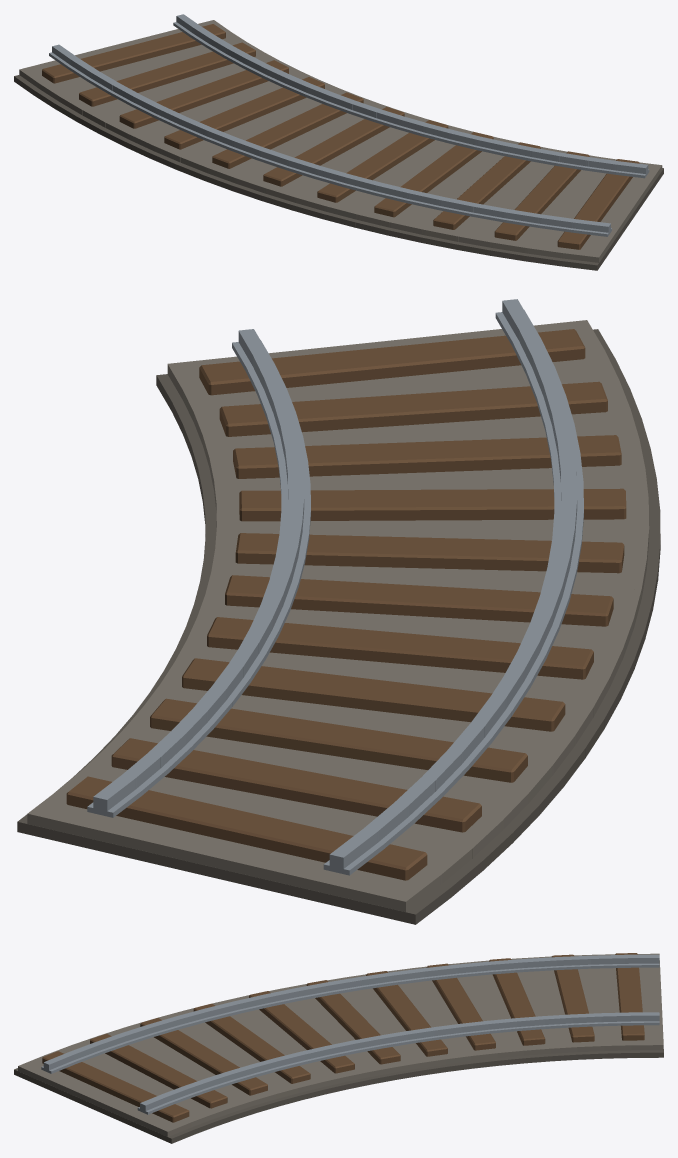
File: rail_courbe.glb
3 renders of one model, top to bottom at view 1: azimuth 30°, elevation 25°; view 2: azimuth 150°, elevation 25°; view 3: azimuth 270°, elevation 25°, orthographic. The views are drawn at different scales.
Visible parts, largest first — view 1: rail_ballast.004, rail_traverse.004, rail_rail.004, rail_ballast_sombre.004; view 2: rail_traverse.004, rail_ballast.004, rail_rail.004, rail_ballast_sombre.004; view 3: rail_ballast.004, rail_traverse.004, rail_rail.004, rail_ballast_sombre.004.
Boxes of the visible parts, x1,y1,x2,y2 form: rail_ballast.004: (19,20,662,262); rail_traverse.004: (42,24,639,249); rail_rail.004: (49,14,649,236); rail_ballast_sombre.004: (14,75,663,270); rail_traverse.004: (66,329,626,880); rail_ballast.004: (27,320,649,911); rail_rail.004: (87,299,583,875); rail_ballast_sombre.004: (17,329,660,924); rail_ballast.004: (18,953,663,1136); rail_traverse.004: (42,953,644,1122); rail_rail.004: (41,954,659,1114); rail_ballast_sombre.004: (14,1049,663,1143).
Size of the model in its own units: 1.9 by 0.12 by 2.86.
